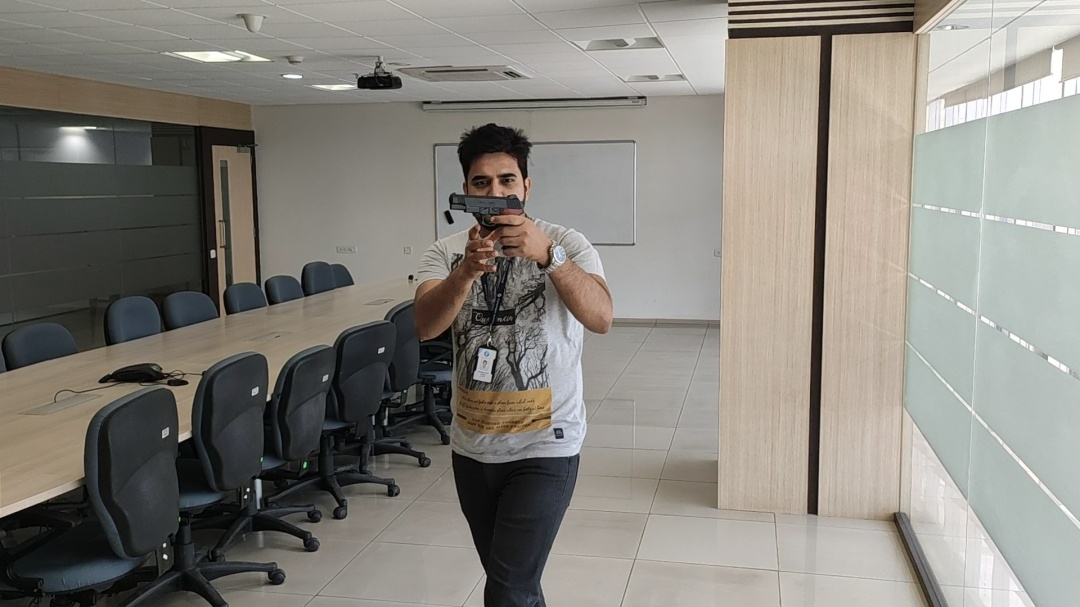gun: (442, 190, 527, 217)
